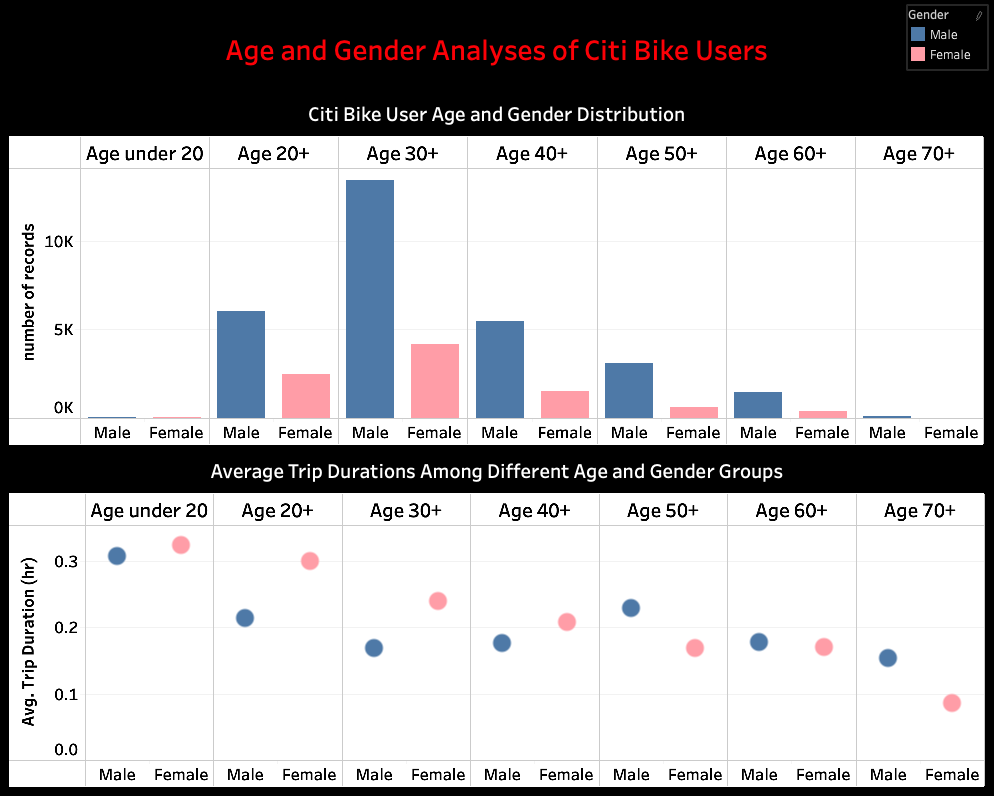

Layout of this report page (visuals, bound fields, positions):
{"tool":"tableau","page":{"name":"UserComparison","canvas":[1000,800],"ordinal":2},"visuals":[{"type":"worksheet","box":[0,0,1000,800]},{"type":"worksheet","title":"UserAgeGender1","mark":"Bar","rows":["Calculation_1009580400846733312"],"cols":["Calculation_1009580400873893891","gender"],"param":"[federated.1u2xchn0cxnp1e1ckx9i2159srjd].[none:gender:nk]","box":[911,7,79,63]},{"type":"worksheet","param":"horz","box":[8,8,984,784]},{"type":"worksheet","param":"vert","box":[8,8,984,784]},{"type":"worksheet","box":[8,8,984,85]},{"type":"worksheet","box":[8,93,984,699]},{"type":"worksheet","title":"UserAgeGender1","mark":"Bar","rows":["Calculation_1009580400846733312"],"cols":["Calculation_1009580400873893891","gender"],"box":[8,93,984,357]},{"type":"worksheet","param":"vert","box":[8,450,984,342]},{"type":"worksheet","title":"UserAgeGender2","mark":"Circle","rows":["Calculation_1009580400850481153"],"cols":["Calculation_1009580400873893891","gender"],"box":[8,450,984,342]}]}

Visuals, with their boxes in screenshot pixels (x1, y1, x2, y2), scaled from the page's 1000x800 canvas onto the 994x796 screenshot:
worksheet: bbox=[0, 0, 993, 795]
"UserAgeGender1" worksheet (Bar marks): bbox=[906, 7, 984, 70]
worksheet: bbox=[8, 8, 986, 788]
worksheet: bbox=[8, 8, 986, 788]
worksheet: bbox=[8, 8, 986, 93]
worksheet: bbox=[8, 93, 986, 788]
"UserAgeGender1" worksheet (Bar marks): bbox=[8, 93, 986, 448]
worksheet: bbox=[8, 448, 986, 788]
"UserAgeGender2" worksheet (Circle marks): bbox=[8, 448, 986, 788]
